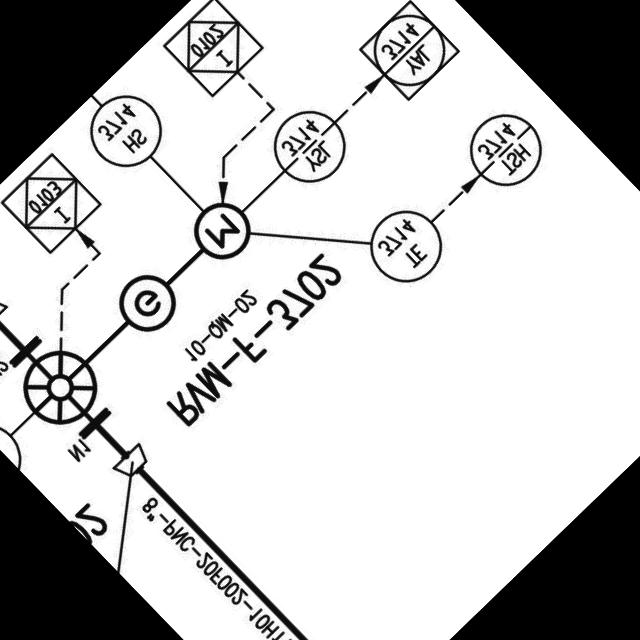RV1: (0, 321, 127, 455)
RVM: (103, 189, 265, 349)
SP: (108, 438, 162, 490), (0, 286, 16, 337)
